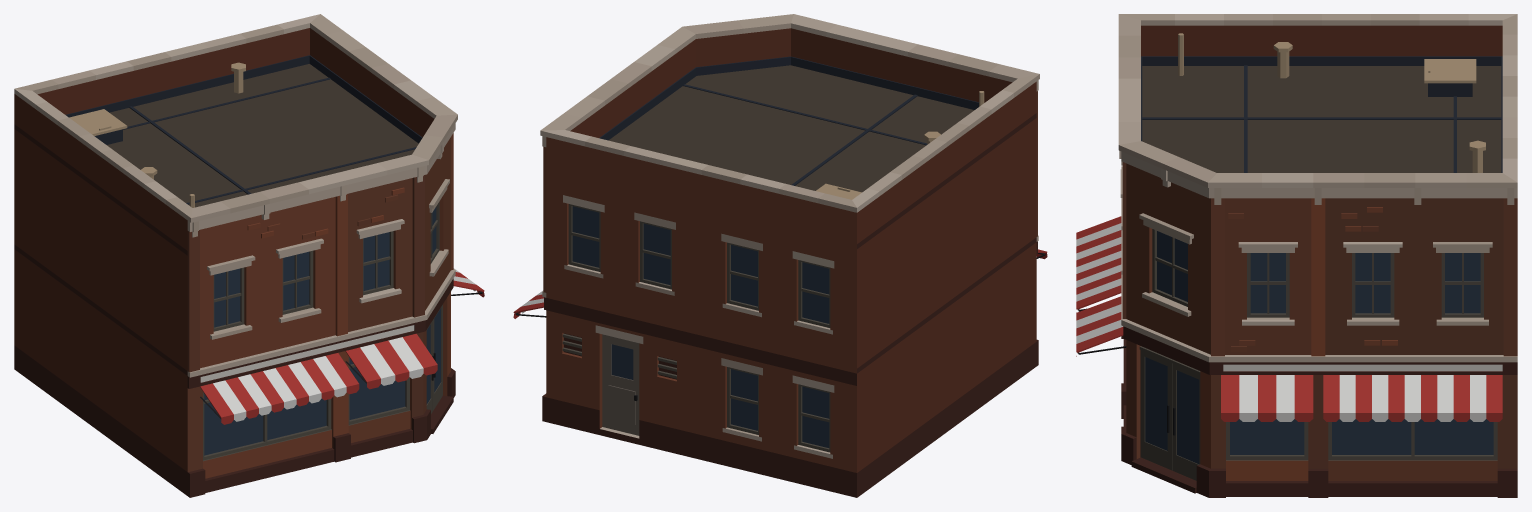
Rendered from CornerShop.glb.
The picture shows the model from 3 angles, left to right: view 1: azimuth 30°, elevation 25°; view 2: azimuth 150°, elevation 25°; view 3: azimuth 270°, elevation 25°; orthographic projection. The views are drawn at different scales.
Parts seen in each view (by area): view 1: corner-shop-body, awnings-canvas, door-right-leaf, roof-hatch-lid; view 2: corner-shop-body; view 3: corner-shop-body, awnings-canvas, door-left-leaf, door-right-leaf, roof-hatch-lid.
Boxes of the visible parts, <box> form: corner-shop-body: <box>14,14,457,497</box>; awnings-canvas: <box>200,268,484,424</box>; door-right-leaf: <box>432,304,442,410</box>; roof-hatch-lid: <box>69,109,127,135</box>; corner-shop-body: <box>540,14,1039,497</box>; corner-shop-body: <box>1118,14,1517,497</box>; awnings-canvas: <box>1076,216,1502,421</box>; door-left-leaf: <box>1140,350,1172,470</box>; door-right-leaf: <box>1172,363,1200,480</box>; roof-hatch-lid: <box>1424,59,1476,83</box>.
Size of the model in its own units: 8.85 by 7 by 8.85.
